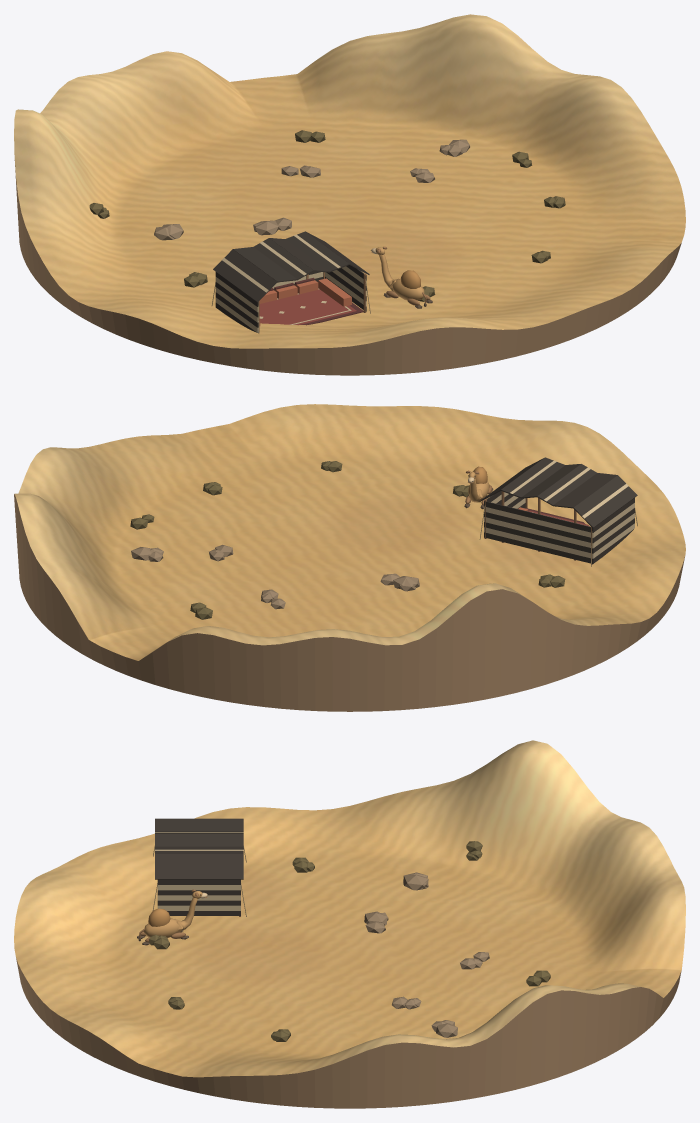
File: scene_raid.glb
3 renders of one model, top to bottom at view 1: azimuth 30°, elevation 25°; view 2: azimuth 150°, elevation 25°; view 3: azimuth 270°, elevation 25°, orthographic.
Visible parts, largest first — view 1: Ground, Plinth, tent.002, camel_kneeling.002; view 2: Ground, Plinth, tent.002, camel_kneeling.002; view 3: Ground, Plinth, tent.002, camel_kneeling.002.
Boxes of the visible parts, left/top/right/bottom form: Ground: left=14, top=14, right=685, bottom=348; Plinth: left=14, top=160, right=681, bottom=375; tent.002: left=211, top=231, right=370, bottom=333; camel_kneeling.002: left=371, top=246, right=432, bottom=308; Ground: left=14, top=404, right=685, bottom=660; Plinth: left=14, top=494, right=684, bottom=711; tent.002: left=479, top=457, right=637, bottom=566; camel_kneeling.002: left=464, top=466, right=493, bottom=509; Ground: left=14, top=740, right=685, bottom=1077; Plinth: left=16, top=958, right=681, bottom=1108; tent.002: left=152, top=818, right=246, bottom=916; camel_kneeling.002: left=137, top=889, right=207, bottom=945.
Bounding box in the file's own units: 33 × 5.97 × 33.
Materials: 6 (1 with a texture image).
